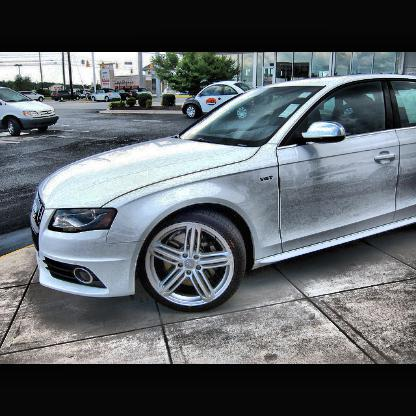Audi S4 Sedan 2012: (30, 76, 416, 315)
